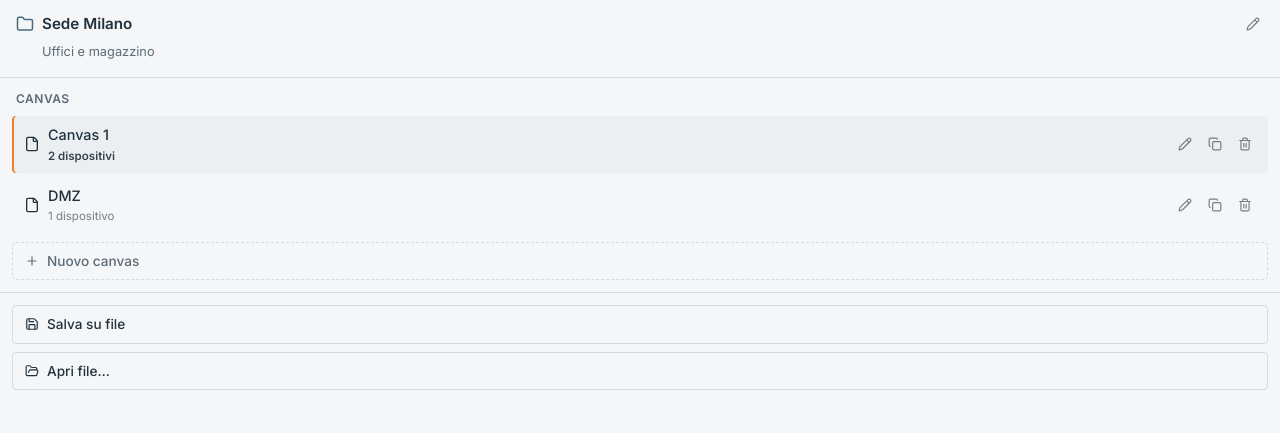
Scenario: ExplorerPanel › canvases › renames a canvas in place: Enter confirms, without switching to it
This screenshot has width=1280, height=433.
Click the button named "Rinomina canvas DMZ" at (1185, 205), box [1174,194,1196,216]
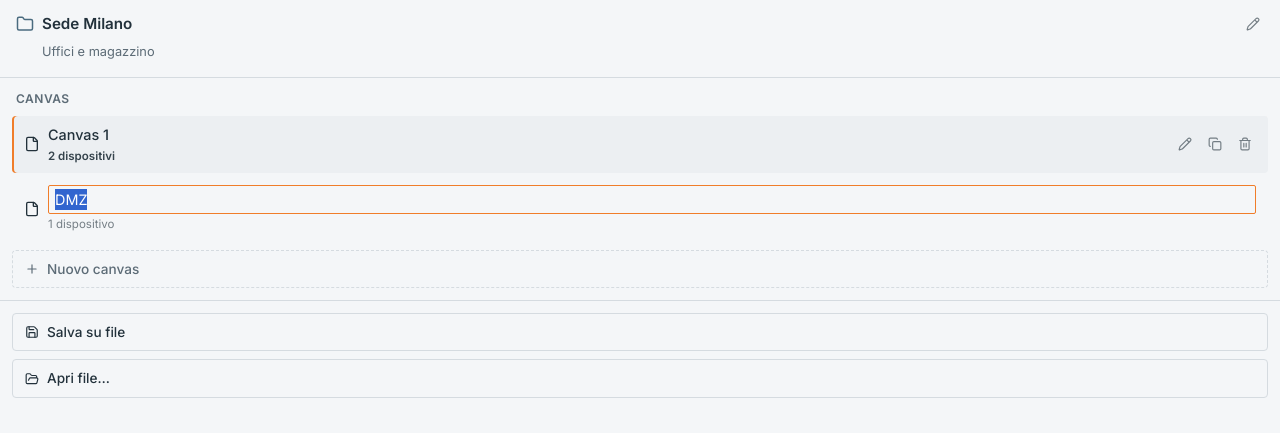
Check: the field named "Nome del canvas DMZ" holds "DMZ"
Replace the text in the field named "Nome del canvas DMZ" with "Perimetro" at (652, 200), box [48,185,1256,214]
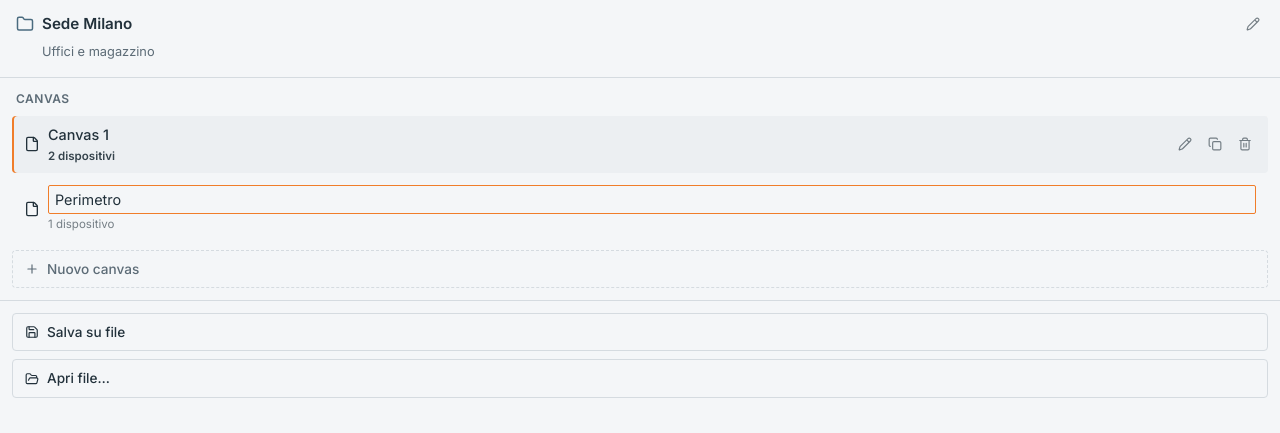
Press Enter in the field named "Nome del canvas DMZ", box [48,185,1256,214]
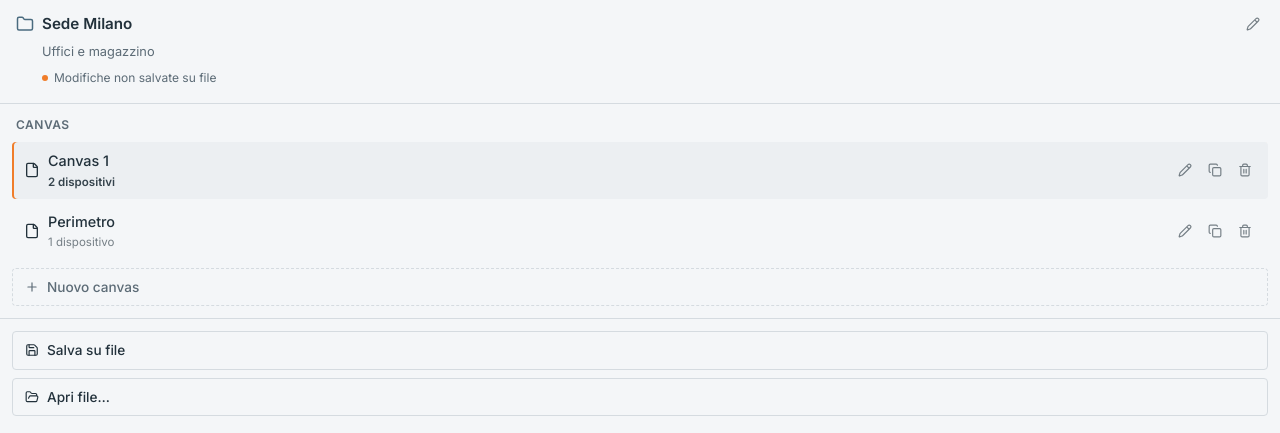
Check: the text "Perimetro" is shown, box [48,213,115,230]
